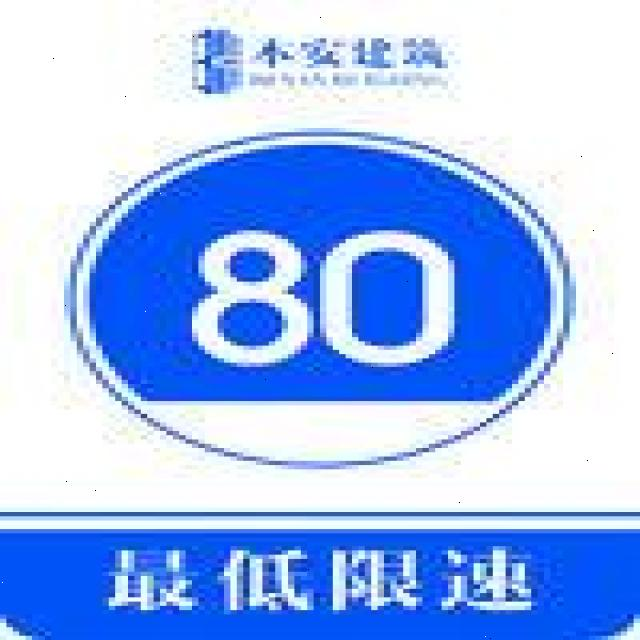speed limit 80: (63, 129, 573, 473)
